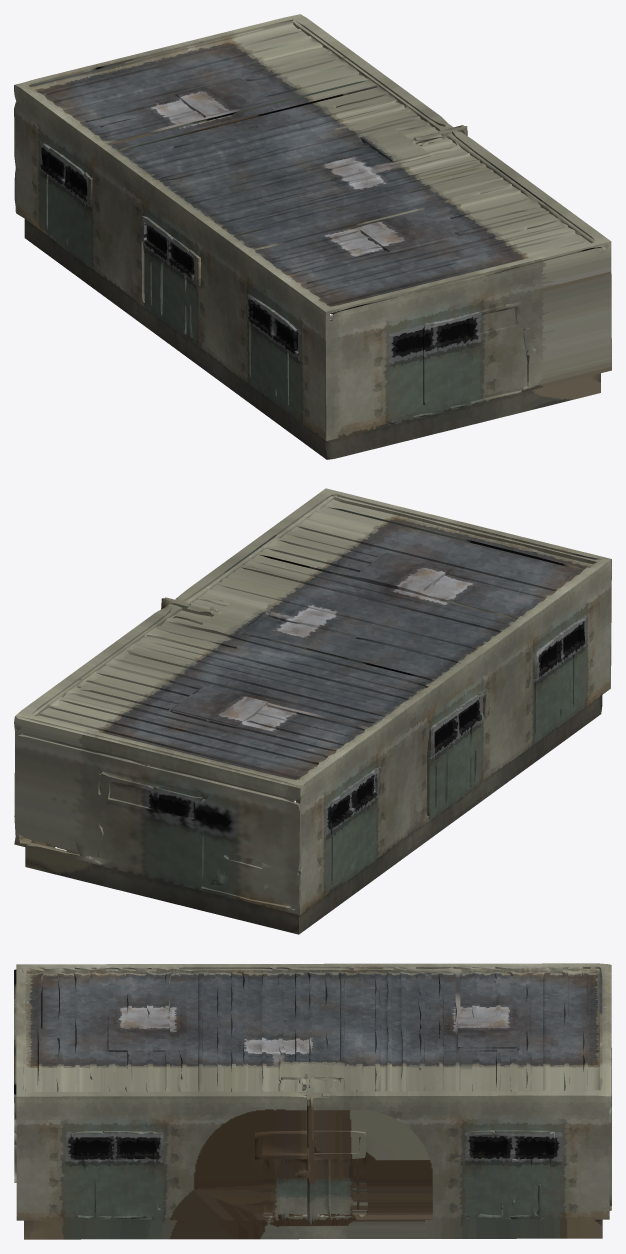
The model's file is portable_hd.glb.
3 renders of one model, top to bottom at view 1: azimuth 30°, elevation 25°; view 2: azimuth 150°, elevation 25°; view 3: azimuth 270°, elevation 25°, orthographic. The views are drawn at different scales.
Visible parts, largest first — view 1: hd_body; view 2: hd_body; view 3: hd_body.
Part boxes in pixels (x1,y1,x2,y2): hd_body: (14, 14, 611, 459); hd_body: (14, 488, 611, 934); hd_body: (14, 963, 611, 1239).
Bounding box in the file's own units: 8.07 × 4.03 × 14.64.
1 material, 1 textured.
